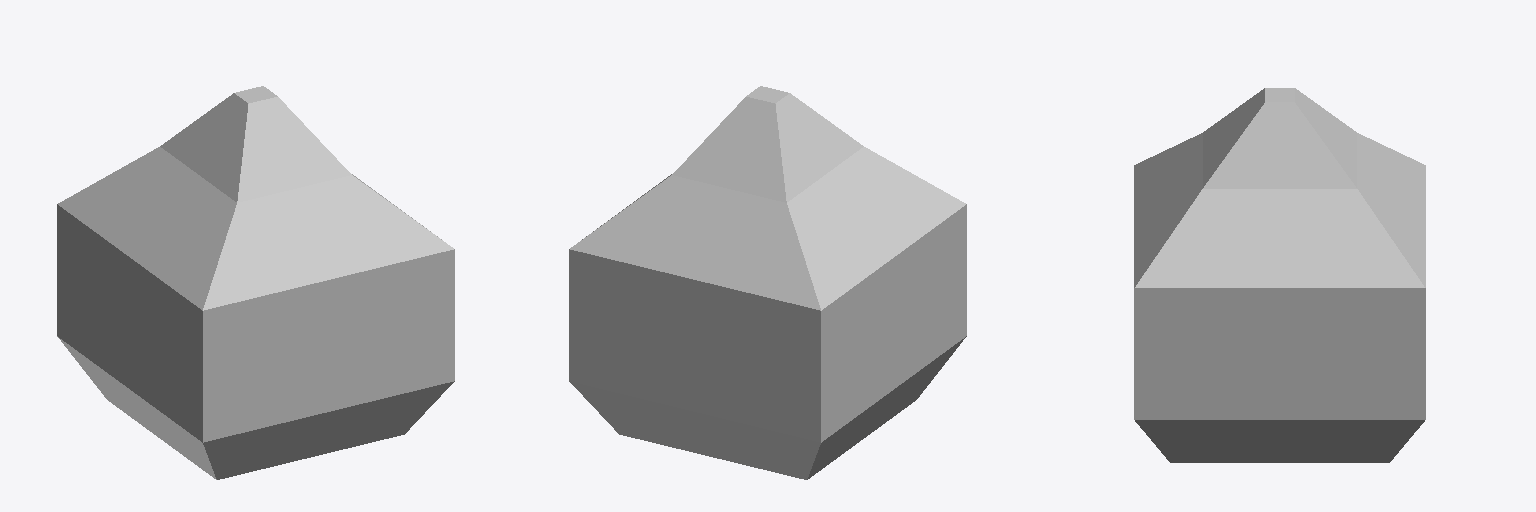
Rendered from baitbag.obj.
3 renders of one model, left to right at view 1: azimuth 30°, elevation 25°; view 2: azimuth 150°, elevation 25°; view 3: azimuth 270°, elevation 25°, orthographic.
Visible parts, largest first — view 1: Cube_Cube.001; view 2: Cube_Cube.001; view 3: Cube_Cube.001.
Boxes of the visible parts, x1=… form: Cube_Cube.001: x1=57, y1=86, x2=454, y2=479; Cube_Cube.001: x1=569, y1=86, x2=966, y2=479; Cube_Cube.001: x1=1134, y1=88, x2=1425, y2=462.
Size of the model in its own units: 2 by 2.44 by 2.